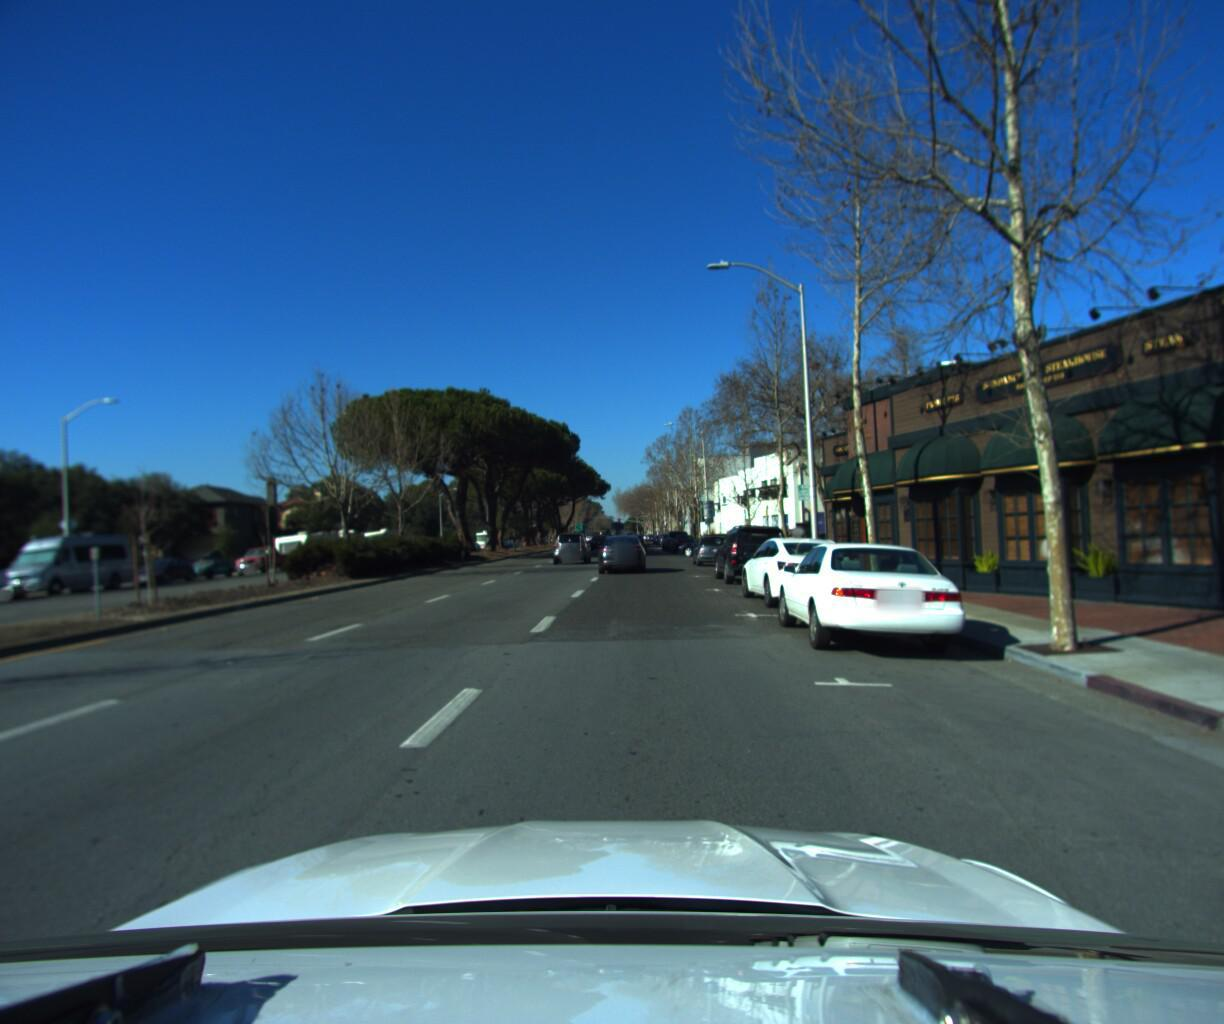car: (763, 528, 998, 669), (734, 527, 878, 616), (0, 530, 148, 604), (710, 517, 804, 589), (124, 556, 209, 589), (595, 529, 648, 573), (178, 549, 242, 585), (674, 528, 747, 556), (234, 545, 300, 577), (0, 555, 26, 619), (692, 530, 737, 567), (554, 526, 595, 562), (663, 526, 694, 551), (671, 530, 700, 552), (588, 533, 611, 550)
other_vehicle: (272, 525, 346, 573)
